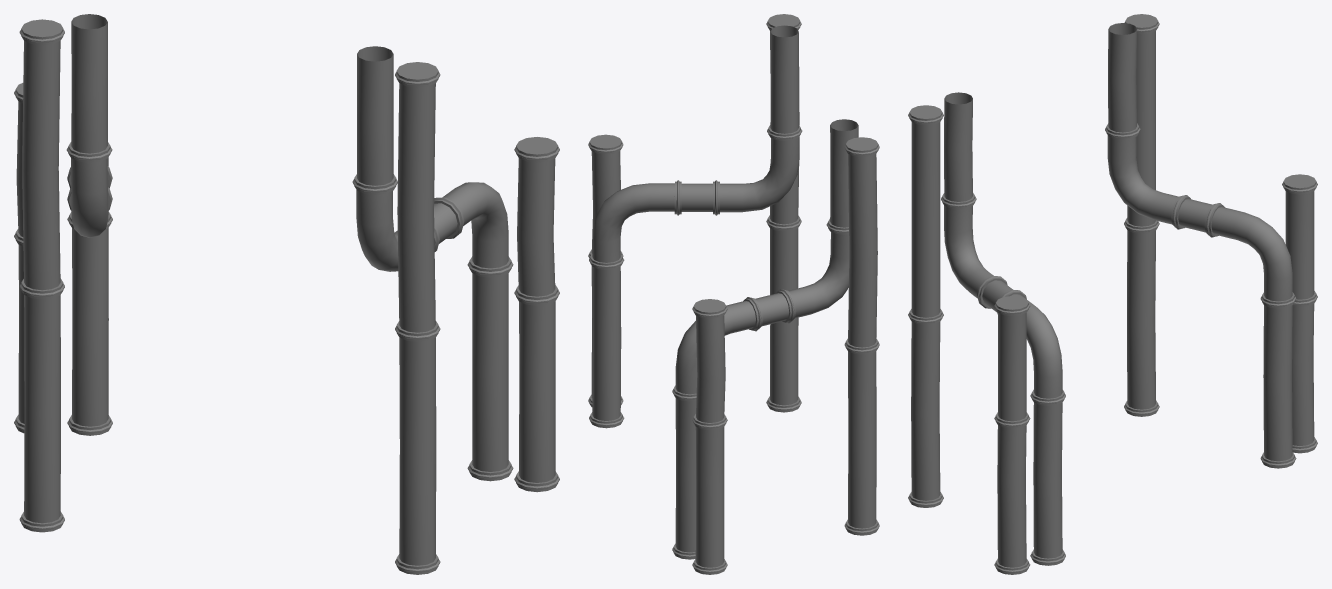
File: tesla_modules_core_pipes_01.dae
The picture shows the model from 3 angles, left to right: view 1: azimuth 30°, elevation 25°; view 2: azimuth 150°, elevation 25°; view 3: azimuth 270°, elevation 25°; orthographic projection. The views are drawn at different scales.
Parts seen in each view (by area): view 1: polySurface400; view 2: polySurface400; view 3: polySurface400.
Part boxes in pixels (x1,y1,x2,y2): polySurface400: (14, 14, 559, 574); polySurface400: (588, 14, 879, 574); polySurface400: (908, 14, 1317, 574).
Bounding box in the file's own units: 7121 × 7564 × 7121.
